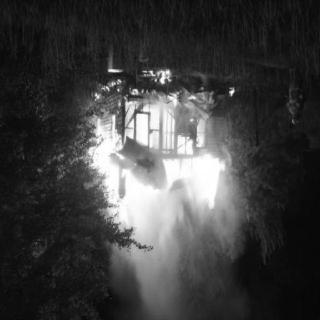Fire: (89, 66, 232, 229)
